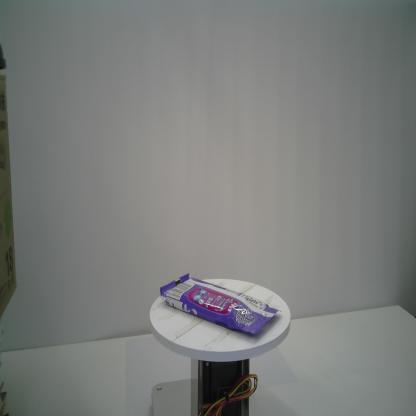Candy: (159, 273, 282, 335)
